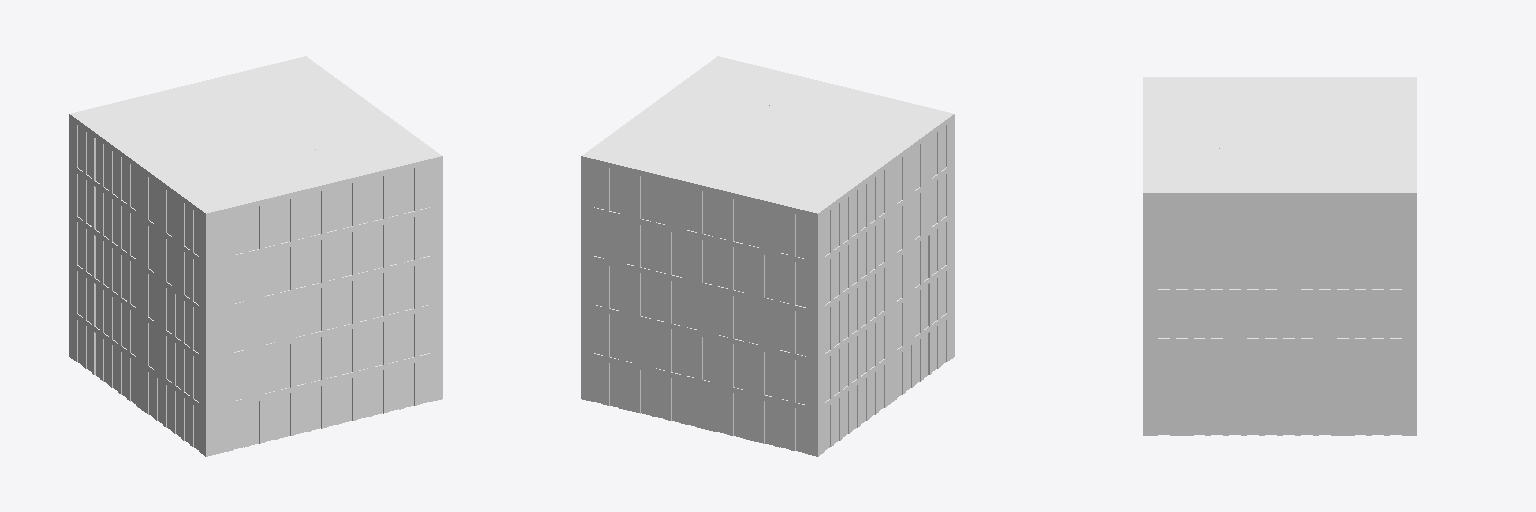
Rendered from GDS2_Skyscraper-1.obj.
3 views of the same model, side by side, from view 1: azimuth 30°, elevation 25°; view 2: azimuth 150°, elevation 25°; view 3: azimuth 270°, elevation 25° (orthographic).
Parts seen in each view (by area): view 1: GDS2_Skyscraper-1; view 2: GDS2_Skyscraper-1; view 3: GDS2_Skyscraper-1.
Part boxes in pixels (x1,y1,x2,y2): GDS2_Skyscraper-1: (69,56,442,456); GDS2_Skyscraper-1: (581,56,954,456); GDS2_Skyscraper-1: (1143,77,1416,435).
Size of the model in its own units: 22.9 by 22.6 by 22.9.